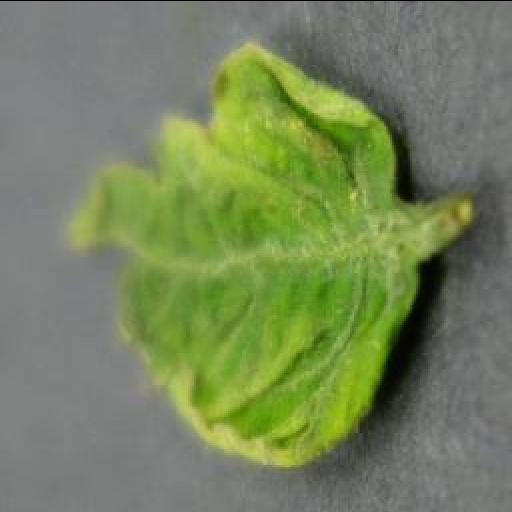disease_tomato: (68, 43, 418, 465)
